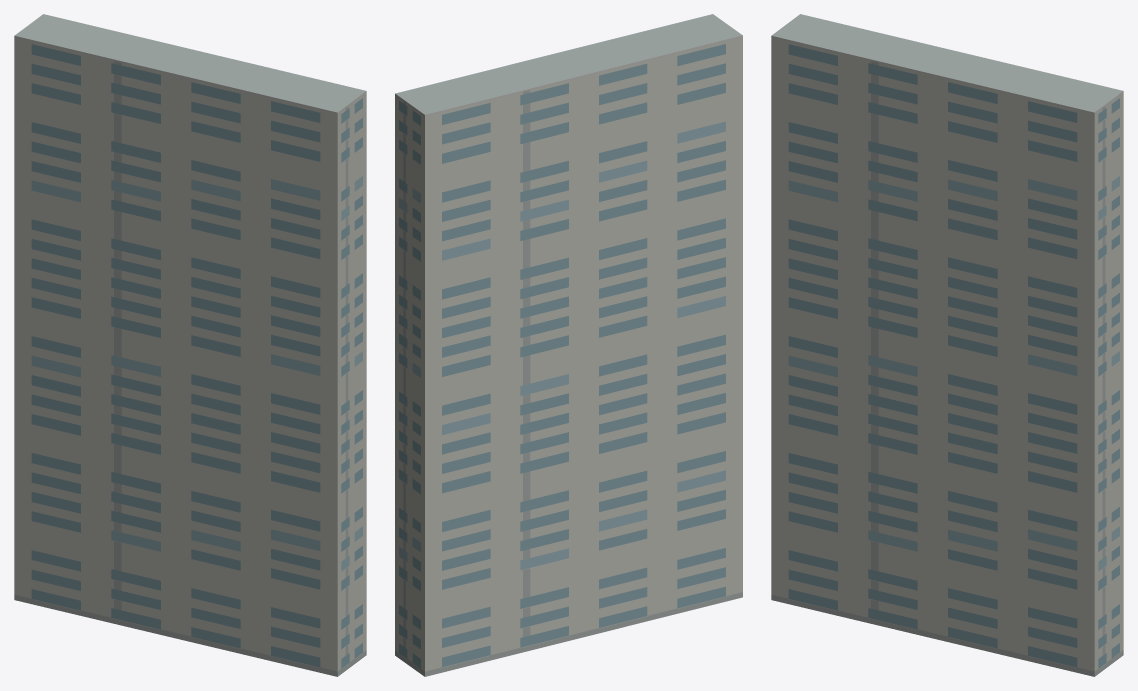
File: residential-a889a085-d933-44f0-b2e1-d81e56e4ec5f.glb
3 renders of one model, left to right at view 1: azimuth 90°, elevation 25°; view 2: azimuth 150°, elevation 25°; view 3: azimuth 270°, elevation 25°, orthographic.
Visible parts, largest first — view 1: residential-a889a085-d933-44f0-b2e1-d81e56e4ec5f.tmp; view 2: residential-a889a085-d933-44f0-b2e1-d81e56e4ec5f.tmp; view 3: residential-a889a085-d933-44f0-b2e1-d81e56e4ec5f.tmp.
Boxes of the visible parts, x1,y1,x2,y2 form: residential-a889a085-d933-44f0-b2e1-d81e56e4ec5f.tmp: (14,14,366,676); residential-a889a085-d933-44f0-b2e1-d81e56e4ec5f.tmp: (395,14,742,676); residential-a889a085-d933-44f0-b2e1-d81e56e4ec5f.tmp: (771,14,1123,676).
Bounding box in the file's own units: 32.98 × 88 × 49.78.
